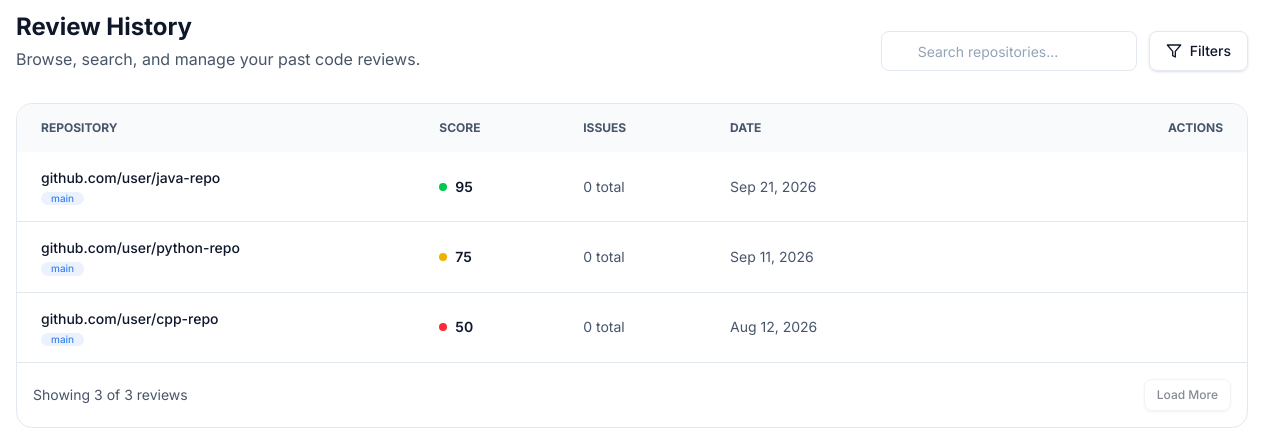
Test: HistoryPage Filters › Repository search filters matching reviews (case-insensitive)
Check: the link "github.com/user/java-repo" is shown, box [41, 169, 220, 186]
Type "PYTHON" into the field with placeholder "Search repositories..." at coordinates (1009, 51), box [881, 31, 1137, 71]
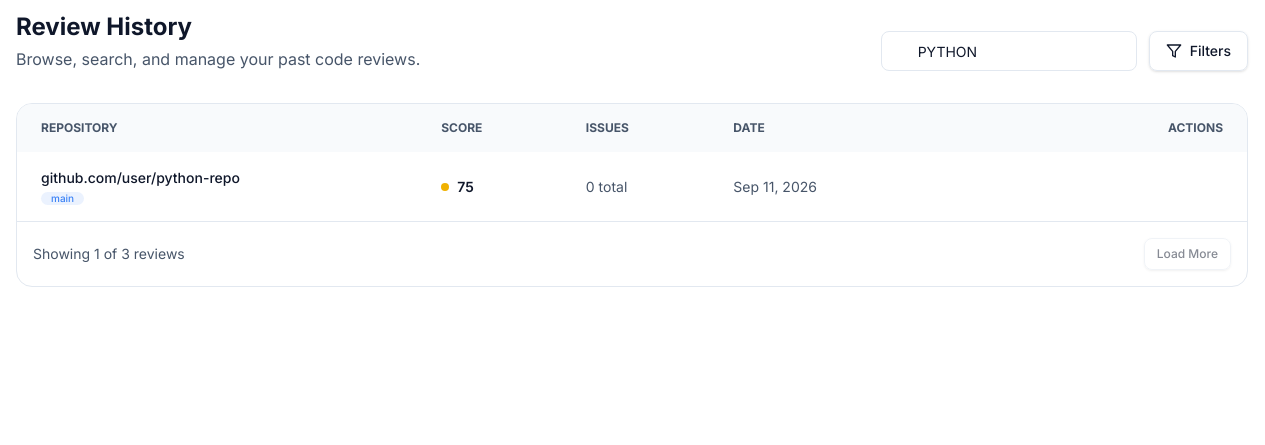
Check: the link "github.com/user/python-repo" is shown, box [41, 169, 240, 186]
Check: the link "github.com/user/java-repo" is gone
Check: the link "github.com/user/cpp-repo" is gone
